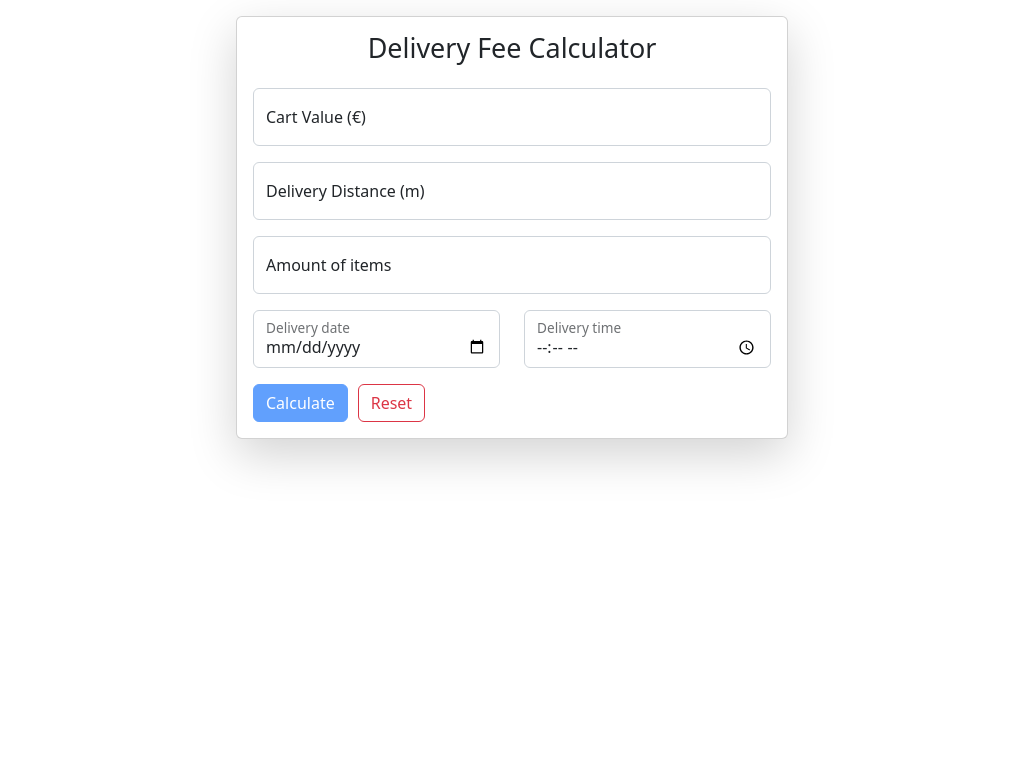
Test: <Calculator /> › renders the modal and its closeable
Type "11" into the field with placeholder "Cart Value". click: (512, 117)
box: [253,88,771,146]
Type "1499" into the field with placeholder "Delivery Distance". click: (512, 191)
box: [253,162,771,220]
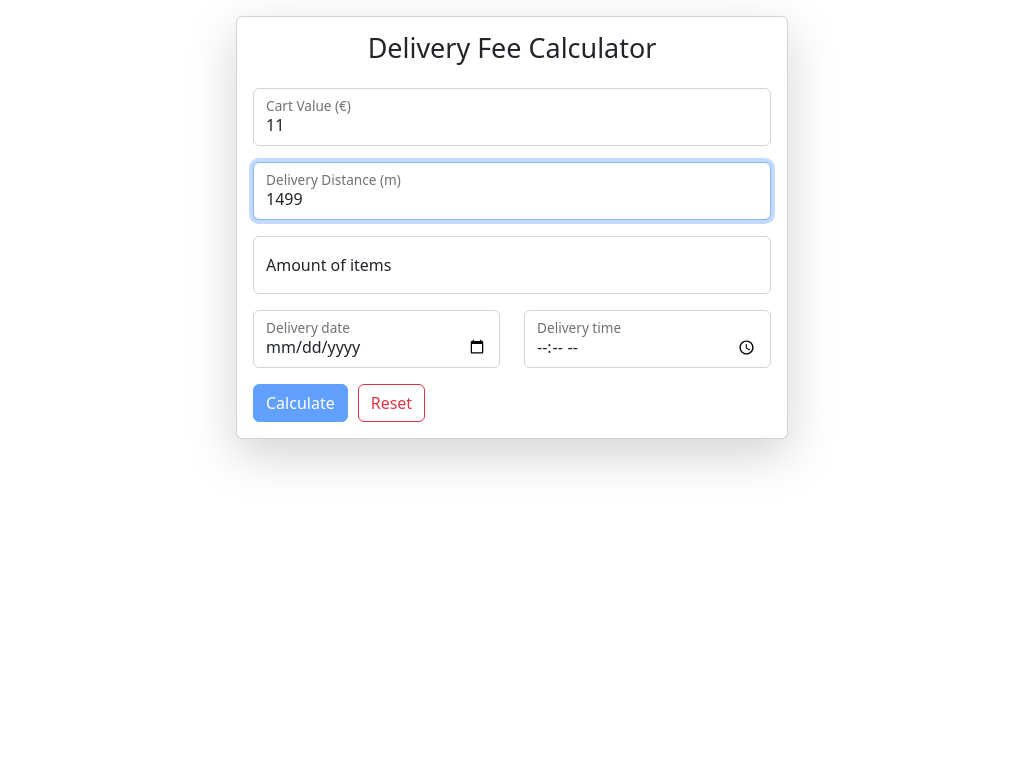
Type "4" into the field with placeholder "Amount of items". click: (512, 265)
box: [253,236,771,294]
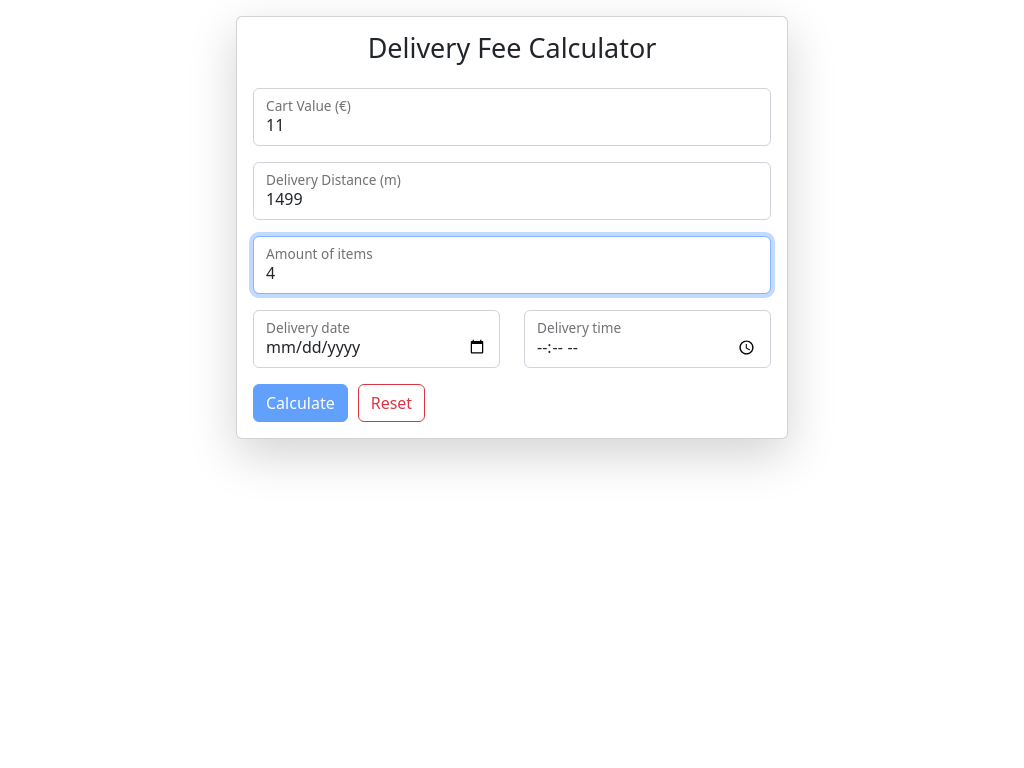
Type "2023-06-24" into the date field with placeholder "Delivery date". click: (376, 339)
box: [253,310,500,368]
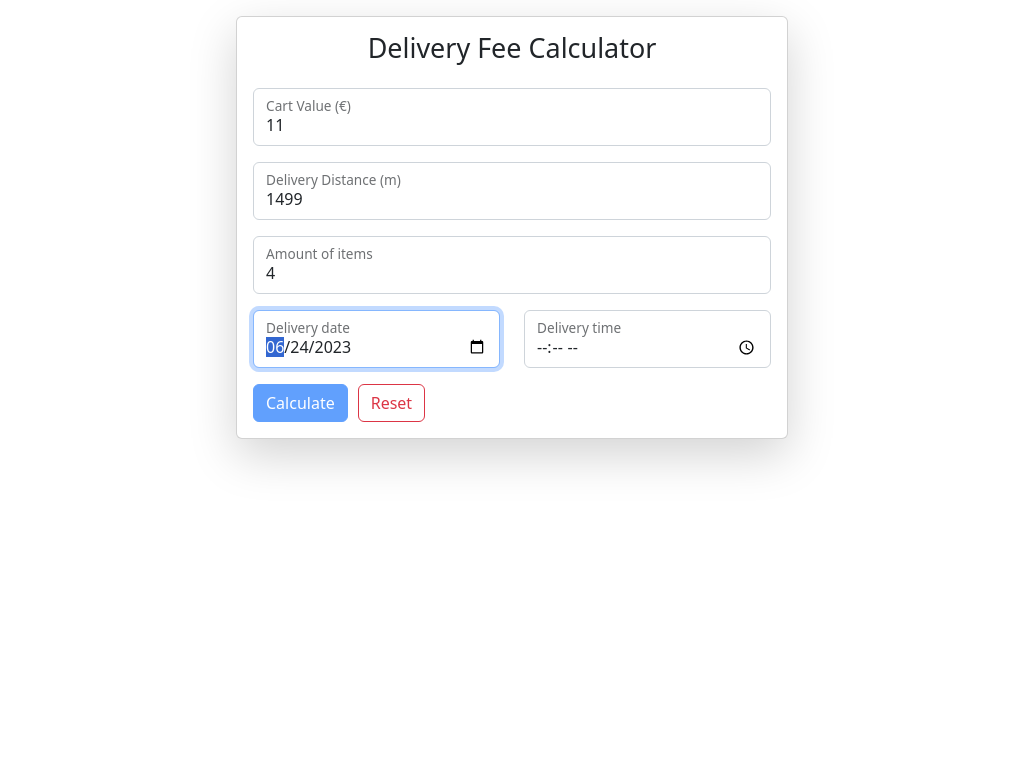
Type "14:12" into the time field with placeholder "Delivery time". click: (648, 339)
box: [524,310,771,368]
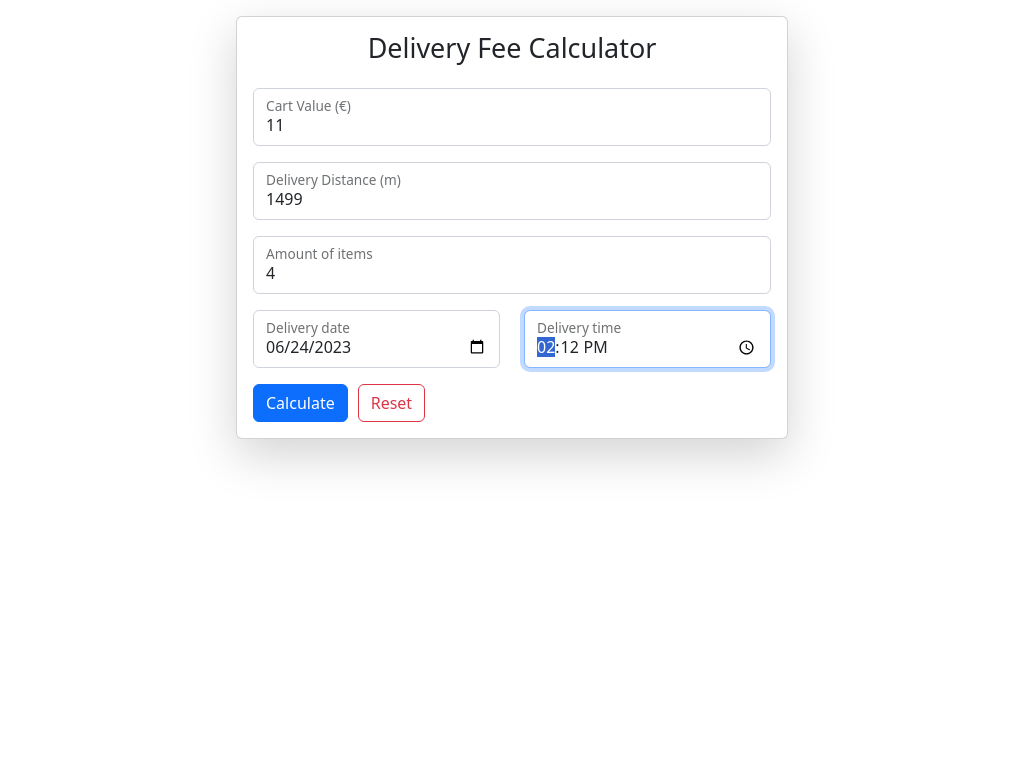
Check: the button "Calculate" is enabled
Click the button "Calculate". click: (300, 403)
box: [253,384,348,422]
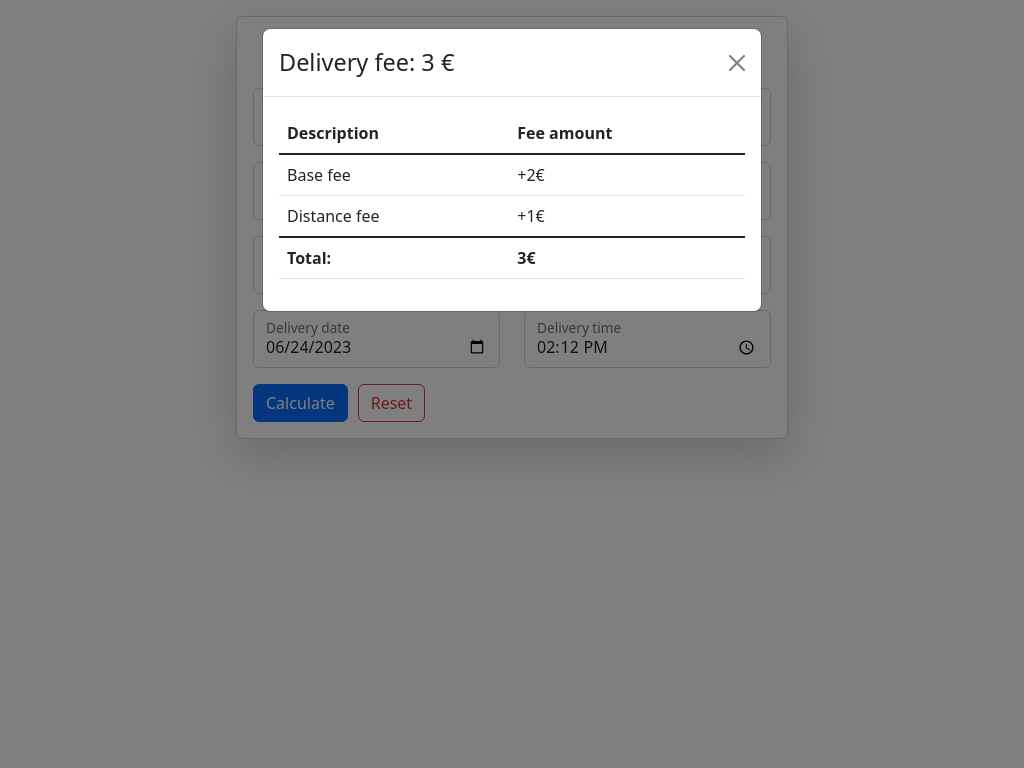
Check: the dialog shows "Delivery fee: 3 €", box [262,28,762,312]
Click the button named "Close". click: (737, 63)
box: [721,47,753,79]
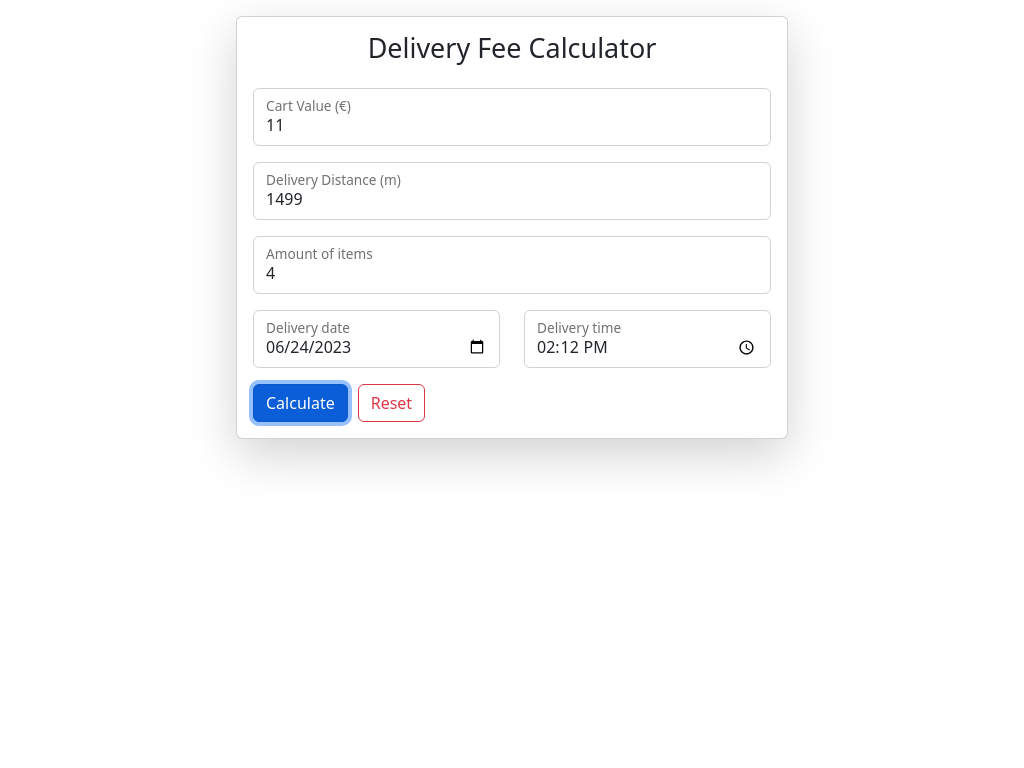
Check: the dialog is gone
